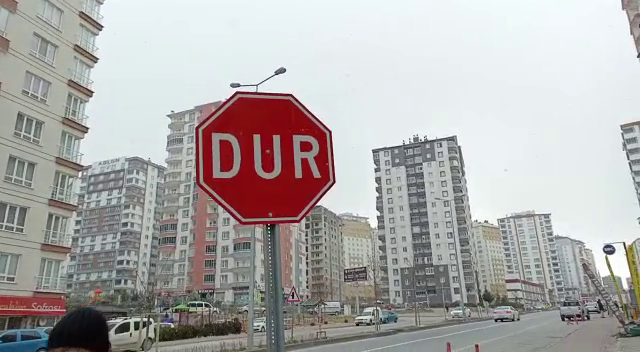stop: (191, 89, 337, 228)
